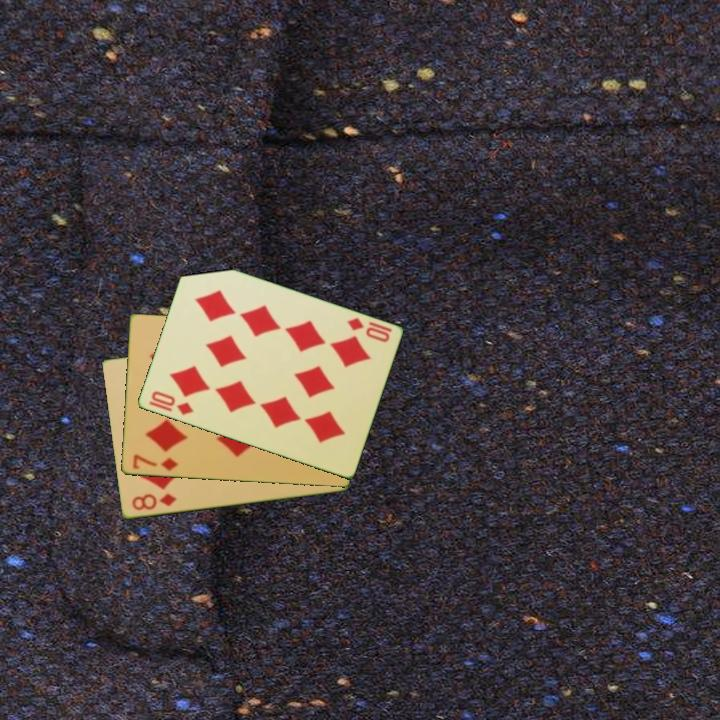10d: (343, 314, 395, 345), (145, 387, 196, 418)
7d: (129, 451, 180, 474)
8d: (128, 490, 179, 514)
